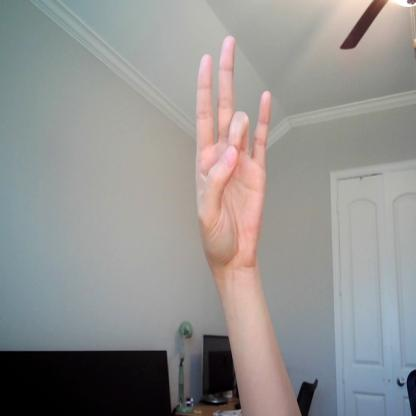seven: (192, 36, 272, 274)
